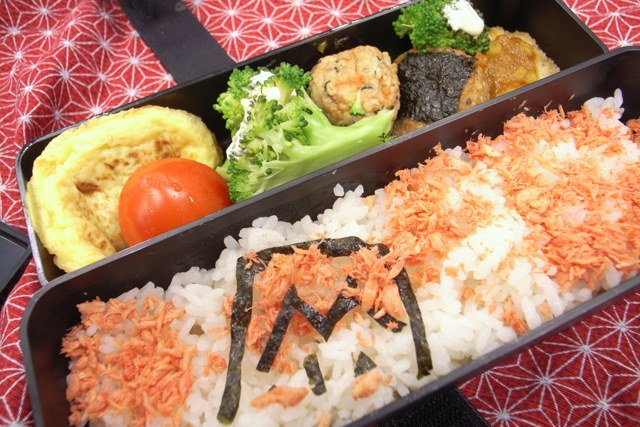tomato: (114, 155, 233, 246)
